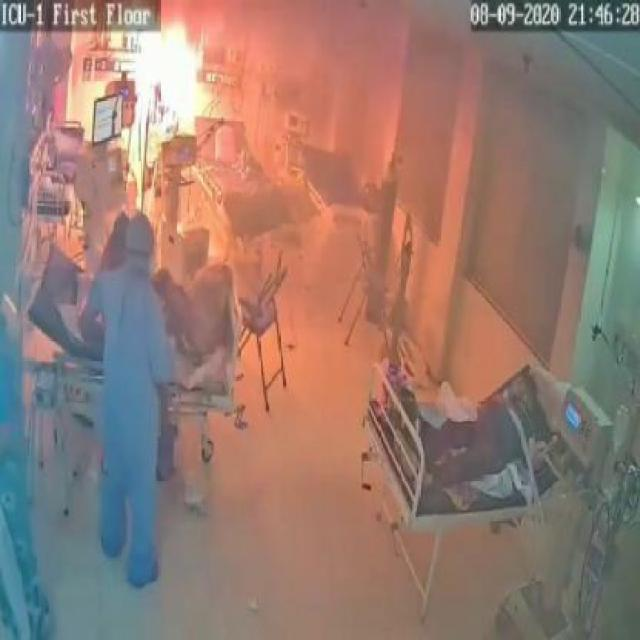fire: (108, 3, 225, 168)
smoke: (232, 8, 570, 210)
